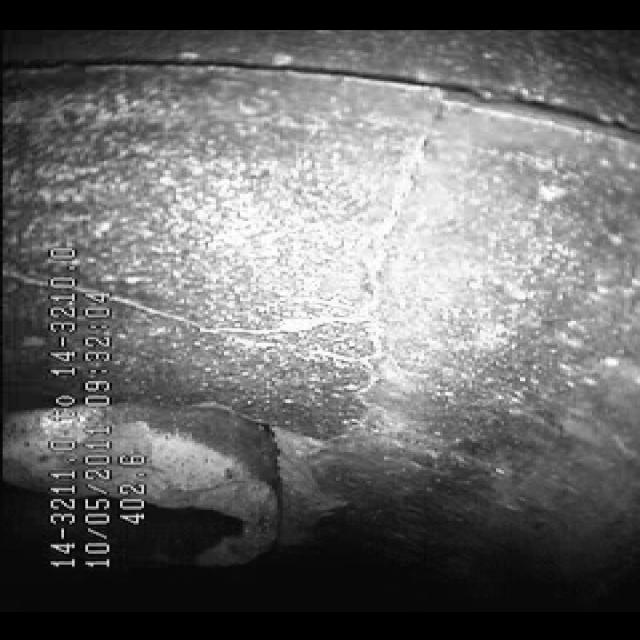Crack: (0, 113, 466, 393)
